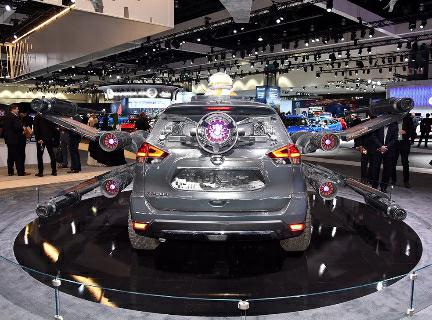日产-Rogue: (123, 104, 321, 256)
